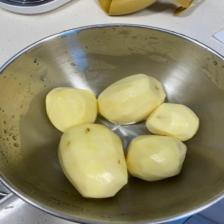Potato: (58, 123, 132, 199), (96, 74, 165, 127), (124, 134, 189, 182), (45, 86, 97, 134), (148, 102, 199, 145)
